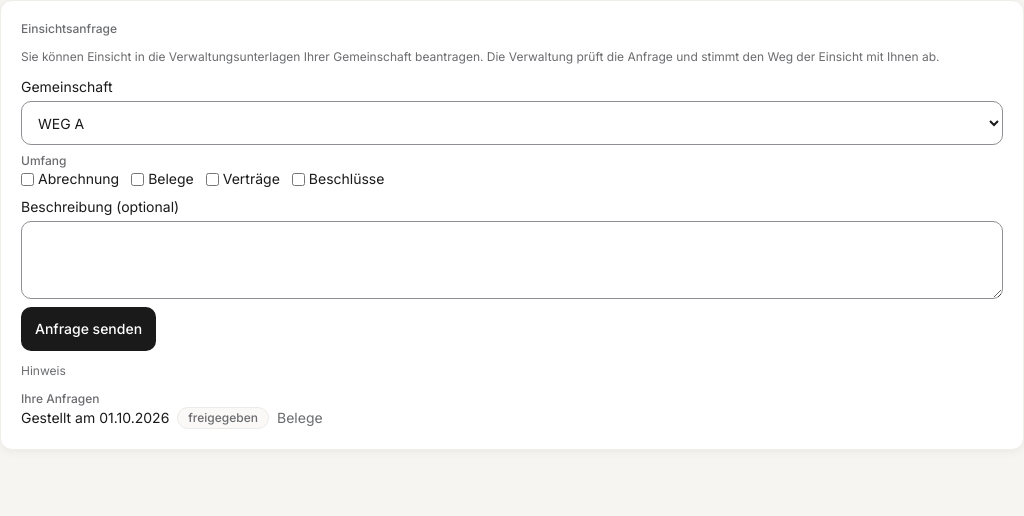
Test case: OwnerInspectionPanel › shows the API error
Type "Verträge Hausmeister" into the text box at (512, 260), box [21, 221, 1003, 299]
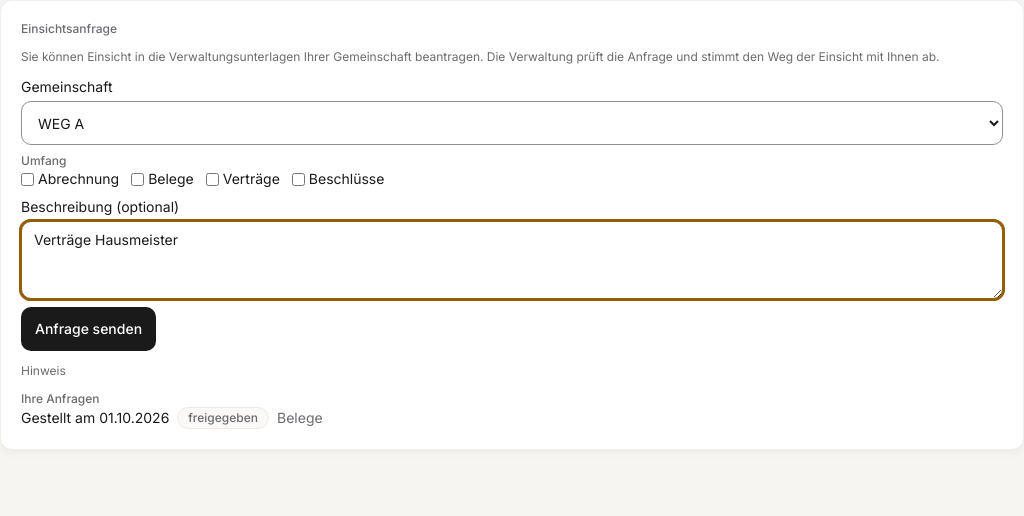
Click the button "Anfrage senden" at (89, 329), box [21, 307, 156, 351]
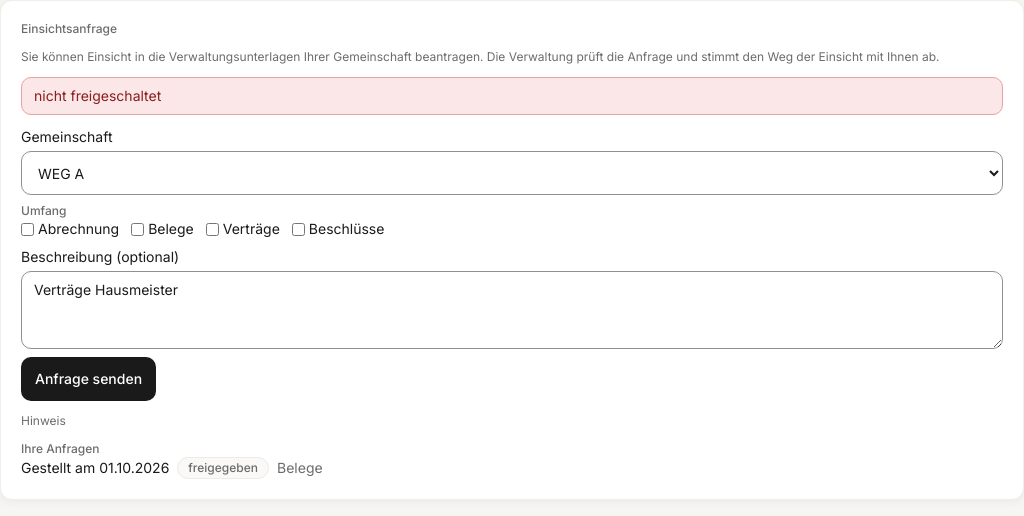
Now the message "nicht freigeschaltet" is shown, box [21, 77, 1003, 115]
